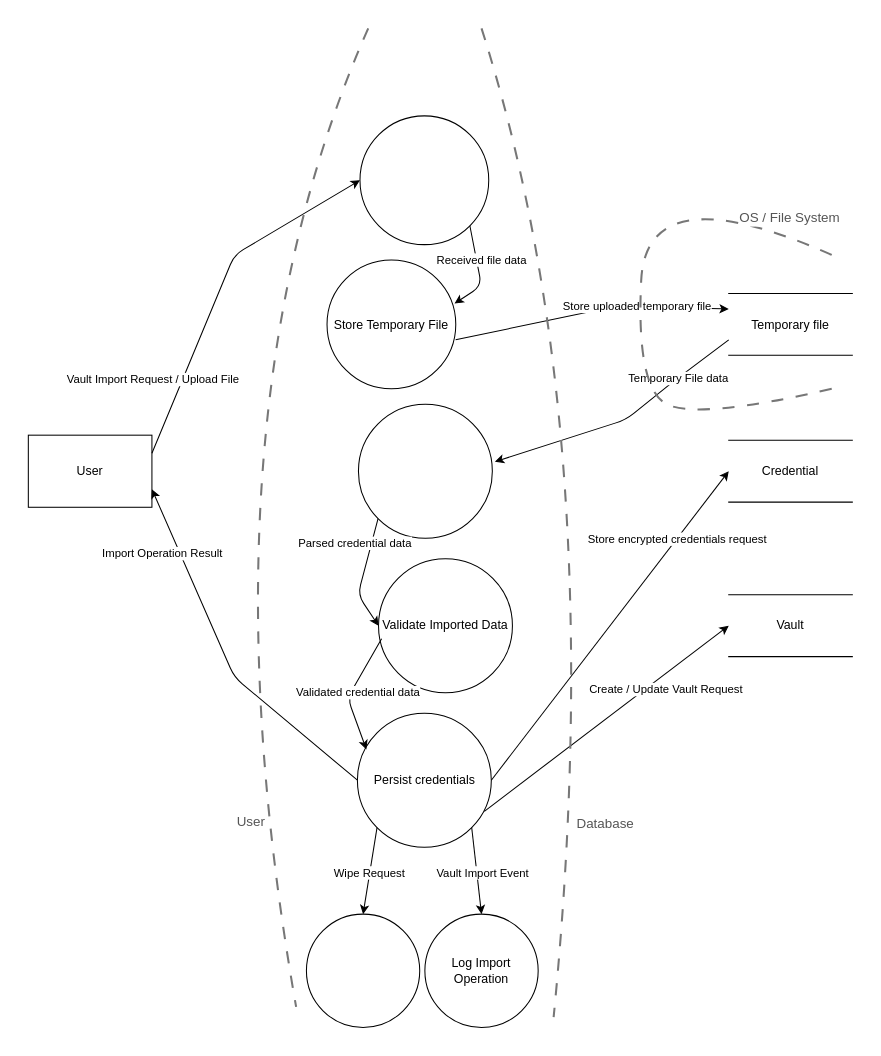
The diagram is 881 pixels wide and 1056 high, and some of its shapes have lost their labels. The shapes that lost their labels are listed below. From the top down, each one's centre as x and y in pixels, then its label:
(424,180): Receive Import File
(424,470): Read and Parse File
(362,970): Securely Delete Temporary File
